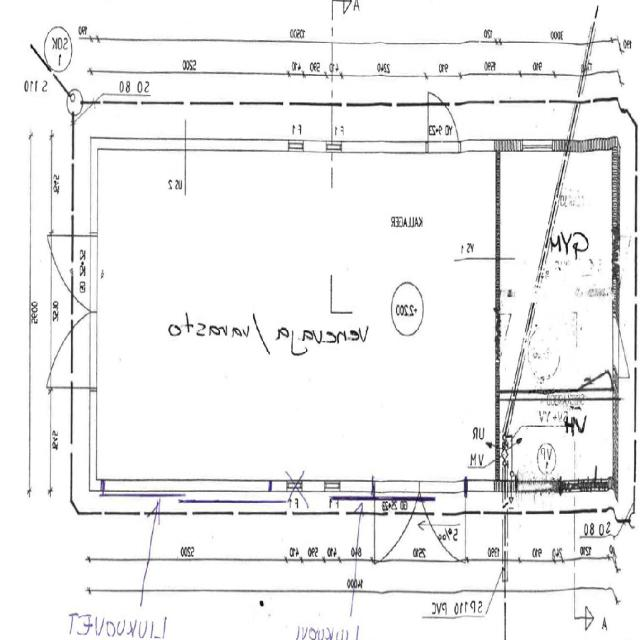door: (45, 236, 98, 312), (45, 312, 98, 388), (374, 480, 420, 566), (421, 480, 466, 566), (578, 334, 612, 398), (428, 87, 459, 148), (614, 316, 640, 375)
